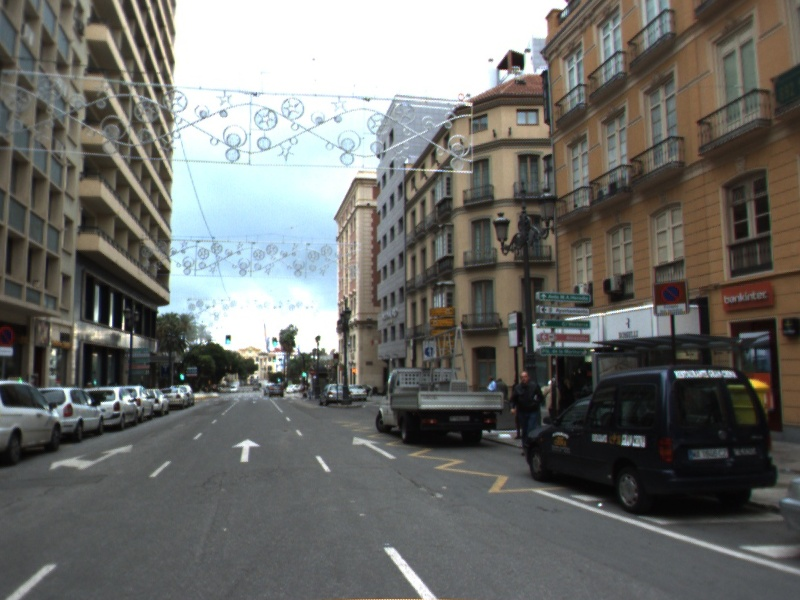STRAIGHT: (350, 435, 399, 461), (229, 437, 263, 464)
STRAIGHT_LEFT: (48, 442, 135, 472)
